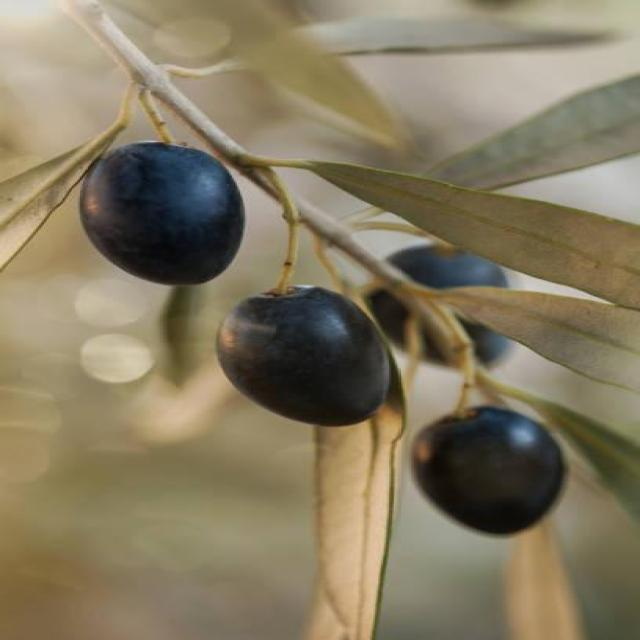Healthy: (312, 163, 638, 311), (78, 142, 245, 285), (218, 287, 389, 426), (441, 284, 638, 394), (413, 406, 565, 535)
